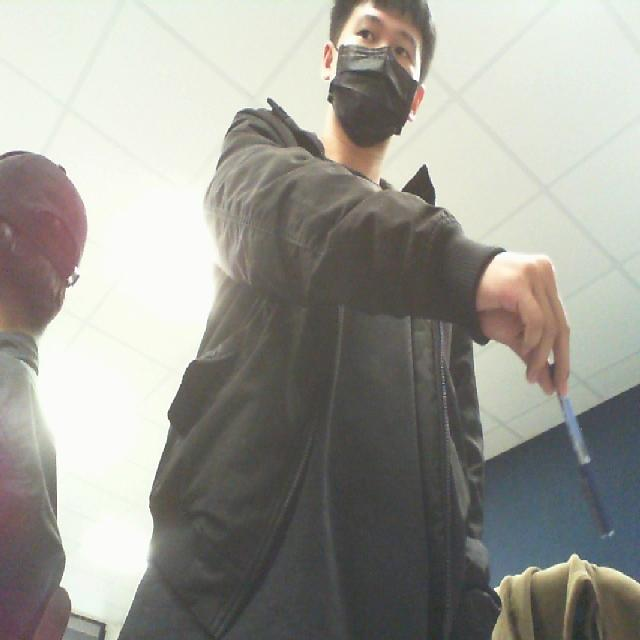Pen: (536, 342, 627, 542)
